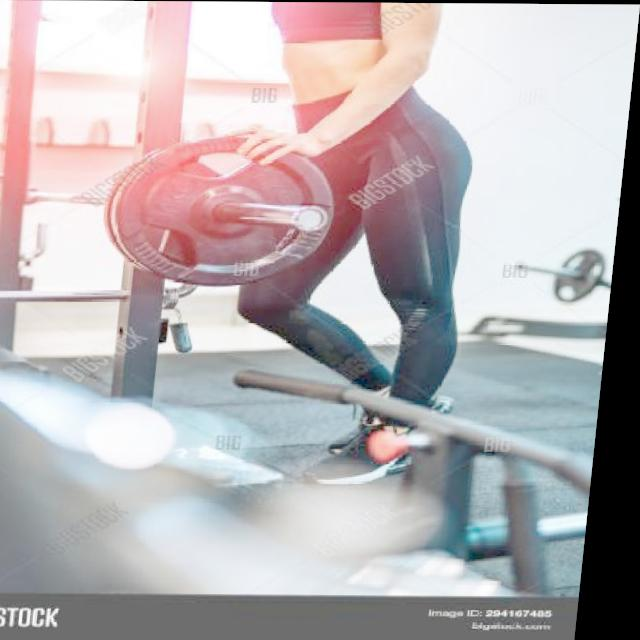barbell: (96, 126, 353, 294)
